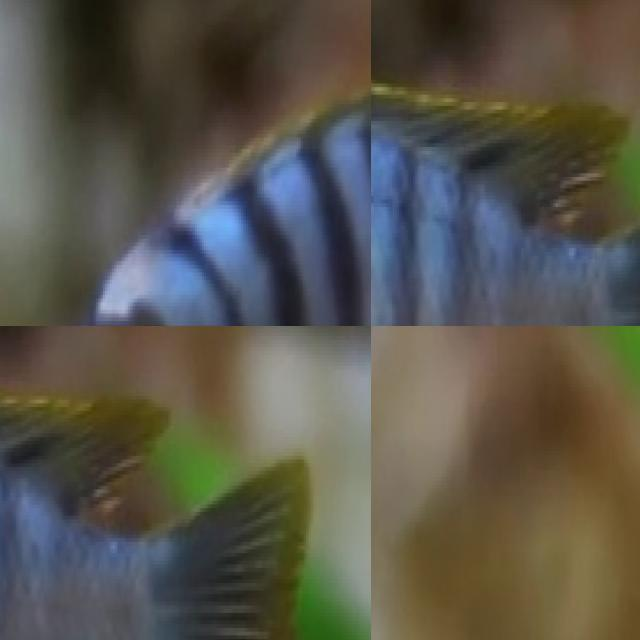fish: (0, 0, 371, 326), (16, 326, 371, 422)
